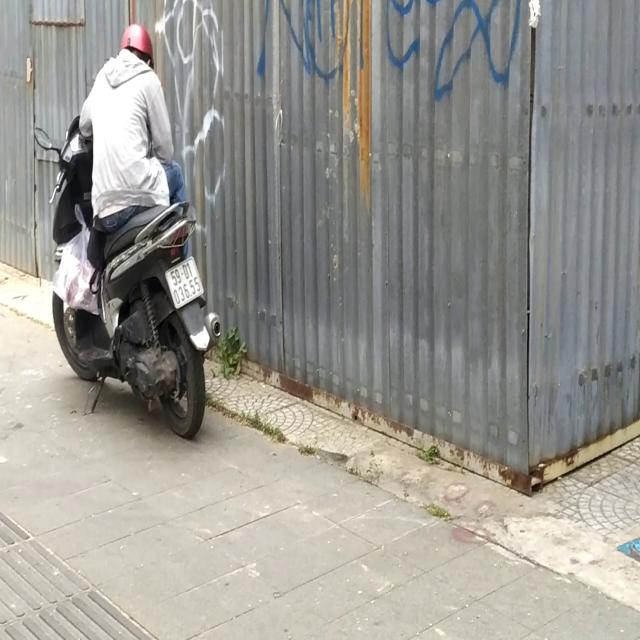bien_trang: (166, 254, 203, 305)
